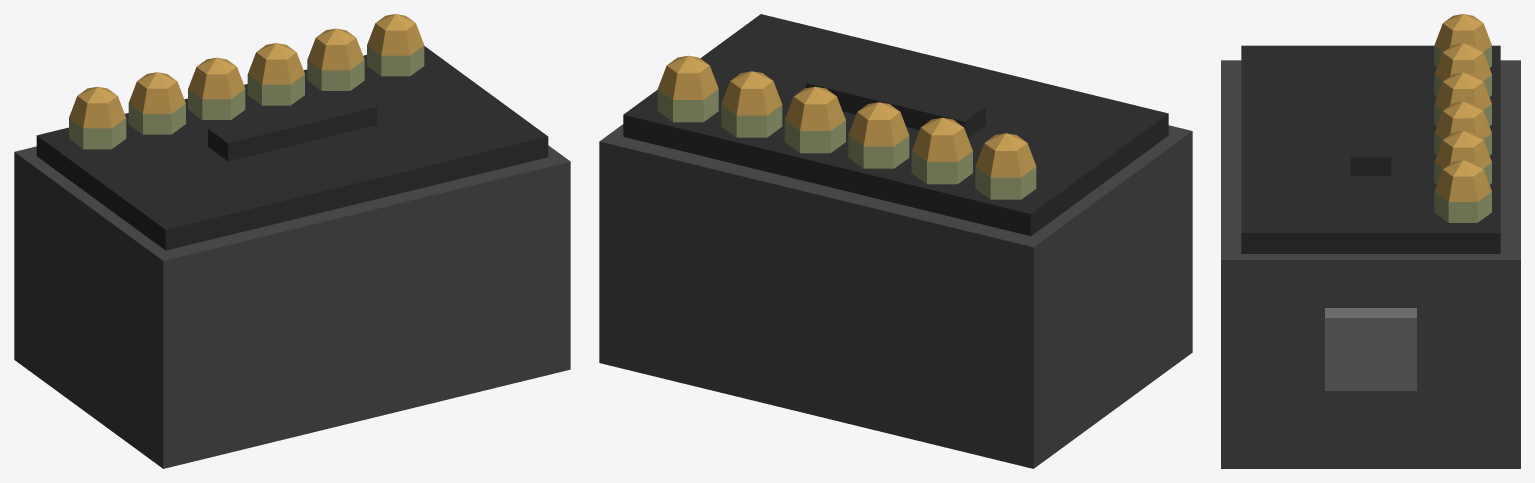
Rendered from ce_ammo_grenade_he_c.obj.
3 views of the same model, side by side, from view 1: azimuth 30°, elevation 25°; view 2: azimuth 150°, elevation 25°; view 3: azimuth 270°, elevation 25° (orthographic). The views are drawn at different scales.
Visible parts, largest first — view 1: ce_ammo_grenade_he_c_0, ce_ammo_grenade_he_c_1, ce_ammo_grenade_he_c_2, ce_ammo_grenade_he_c_17, ce_ammo_grenade_he_c_5, ce_ammo_grenade_he_c_11, ce_ammo_grenade_he_c_14, ce_ammo_grenade_he_c_20, ce_ammo_grenade_he_c_8, ce_ammo_grenade_he_c_13, ce_ammo_grenade_he_c_19, ce_ammo_grenade_he_c_4 (+3 smaller); view 2: ce_ammo_grenade_he_c_0, ce_ammo_grenade_he_c_1, ce_ammo_grenade_he_c_2, ce_ammo_grenade_he_c_11, ce_ammo_grenade_he_c_17, ce_ammo_grenade_he_c_5, ce_ammo_grenade_he_c_20, ce_ammo_grenade_he_c_14, ce_ammo_grenade_he_c_8, ce_ammo_grenade_he_c_4, ce_ammo_grenade_he_c_7, ce_ammo_grenade_he_c_13 (+3 smaller); view 3: ce_ammo_grenade_he_c_0, ce_ammo_grenade_he_c_1, ce_ammo_grenade_he_c_3, ce_ammo_grenade_he_c_2, ce_ammo_grenade_he_c_20, ce_ammo_grenade_he_c_19, ce_ammo_grenade_he_c_5, ce_ammo_grenade_he_c_17, ce_ammo_grenade_he_c_14, ce_ammo_grenade_he_c_11, ce_ammo_grenade_he_c_8, ce_ammo_grenade_he_c_15 (+5 smaller).
Boxes of the visible parts, x1,y1,x2,y2 form: ce_ammo_grenade_he_c_0: (14, 145, 570, 468); ce_ammo_grenade_he_c_1: (36, 46, 548, 250); ce_ammo_grenade_he_c_2: (208, 92, 376, 161); ce_ammo_grenade_he_c_17: (307, 38, 364, 70); ce_ammo_grenade_he_c_5: (69, 96, 125, 128); ce_ammo_grenade_he_c_11: (188, 67, 245, 99); ce_ammo_grenade_he_c_14: (248, 52, 304, 84); ce_ammo_grenade_he_c_20: (367, 23, 423, 55); ce_ammo_grenade_he_c_8: (128, 81, 185, 113); ce_ammo_grenade_he_c_13: (247, 74, 304, 105); ce_ammo_grenade_he_c_19: (367, 45, 424, 76); ce_ammo_grenade_he_c_4: (69, 118, 126, 149); ce_ammo_grenade_he_c_0: (599, 124, 1192, 468); ce_ammo_grenade_he_c_1: (623, 14, 1168, 236); ce_ammo_grenade_he_c_2: (806, 67, 985, 138); ce_ammo_grenade_he_c_11: (848, 112, 909, 146); ce_ammo_grenade_he_c_17: (721, 81, 782, 115); ce_ammo_grenade_he_c_5: (975, 143, 1036, 177); ce_ammo_grenade_he_c_20: (658, 65, 718, 99); ce_ammo_grenade_he_c_14: (785, 96, 845, 130); ce_ammo_grenade_he_c_8: (912, 128, 972, 161); ce_ammo_grenade_he_c_4: (975, 166, 1036, 199); ce_ammo_grenade_he_c_7: (911, 151, 972, 184); ce_ammo_grenade_he_c_13: (784, 120, 845, 153); ce_ammo_grenade_he_c_0: (1221, 60, 1520, 468); ce_ammo_grenade_he_c_1: (1241, 45, 1500, 253); ce_ammo_grenade_he_c_3: (1325, 308, 1416, 390); ce_ammo_grenade_he_c_2: (1350, 84, 1391, 175); ce_ammo_grenade_he_c_20: (1434, 169, 1491, 201); ce_ammo_grenade_he_c_19: (1434, 191, 1491, 222); ce_ammo_grenade_he_c_5: (1434, 23, 1491, 51); ce_ammo_grenade_he_c_17: (1434, 140, 1491, 168); ce_ammo_grenade_he_c_14: (1434, 111, 1491, 139); ce_ammo_grenade_he_c_11: (1434, 82, 1491, 110); ce_ammo_grenade_he_c_8: (1434, 52, 1491, 80); ce_ammo_grenade_he_c_15: (1443, 101, 1483, 118).
Size of the model in its own units: 0.86 by 0.54 by 0.52.
